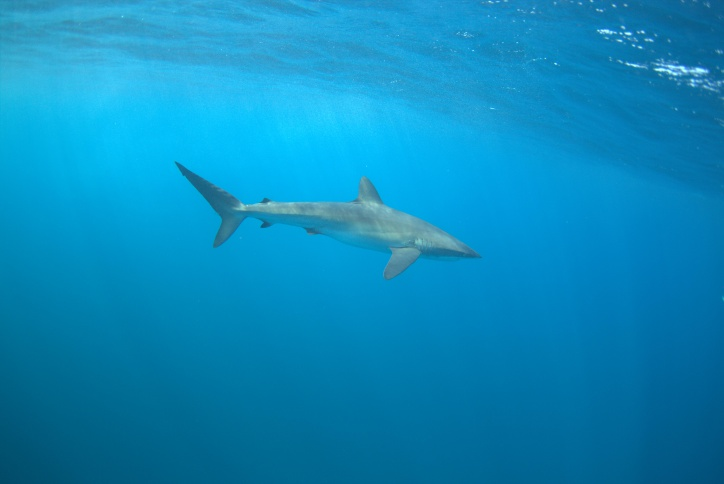Sedoso: (155, 139, 498, 285)
